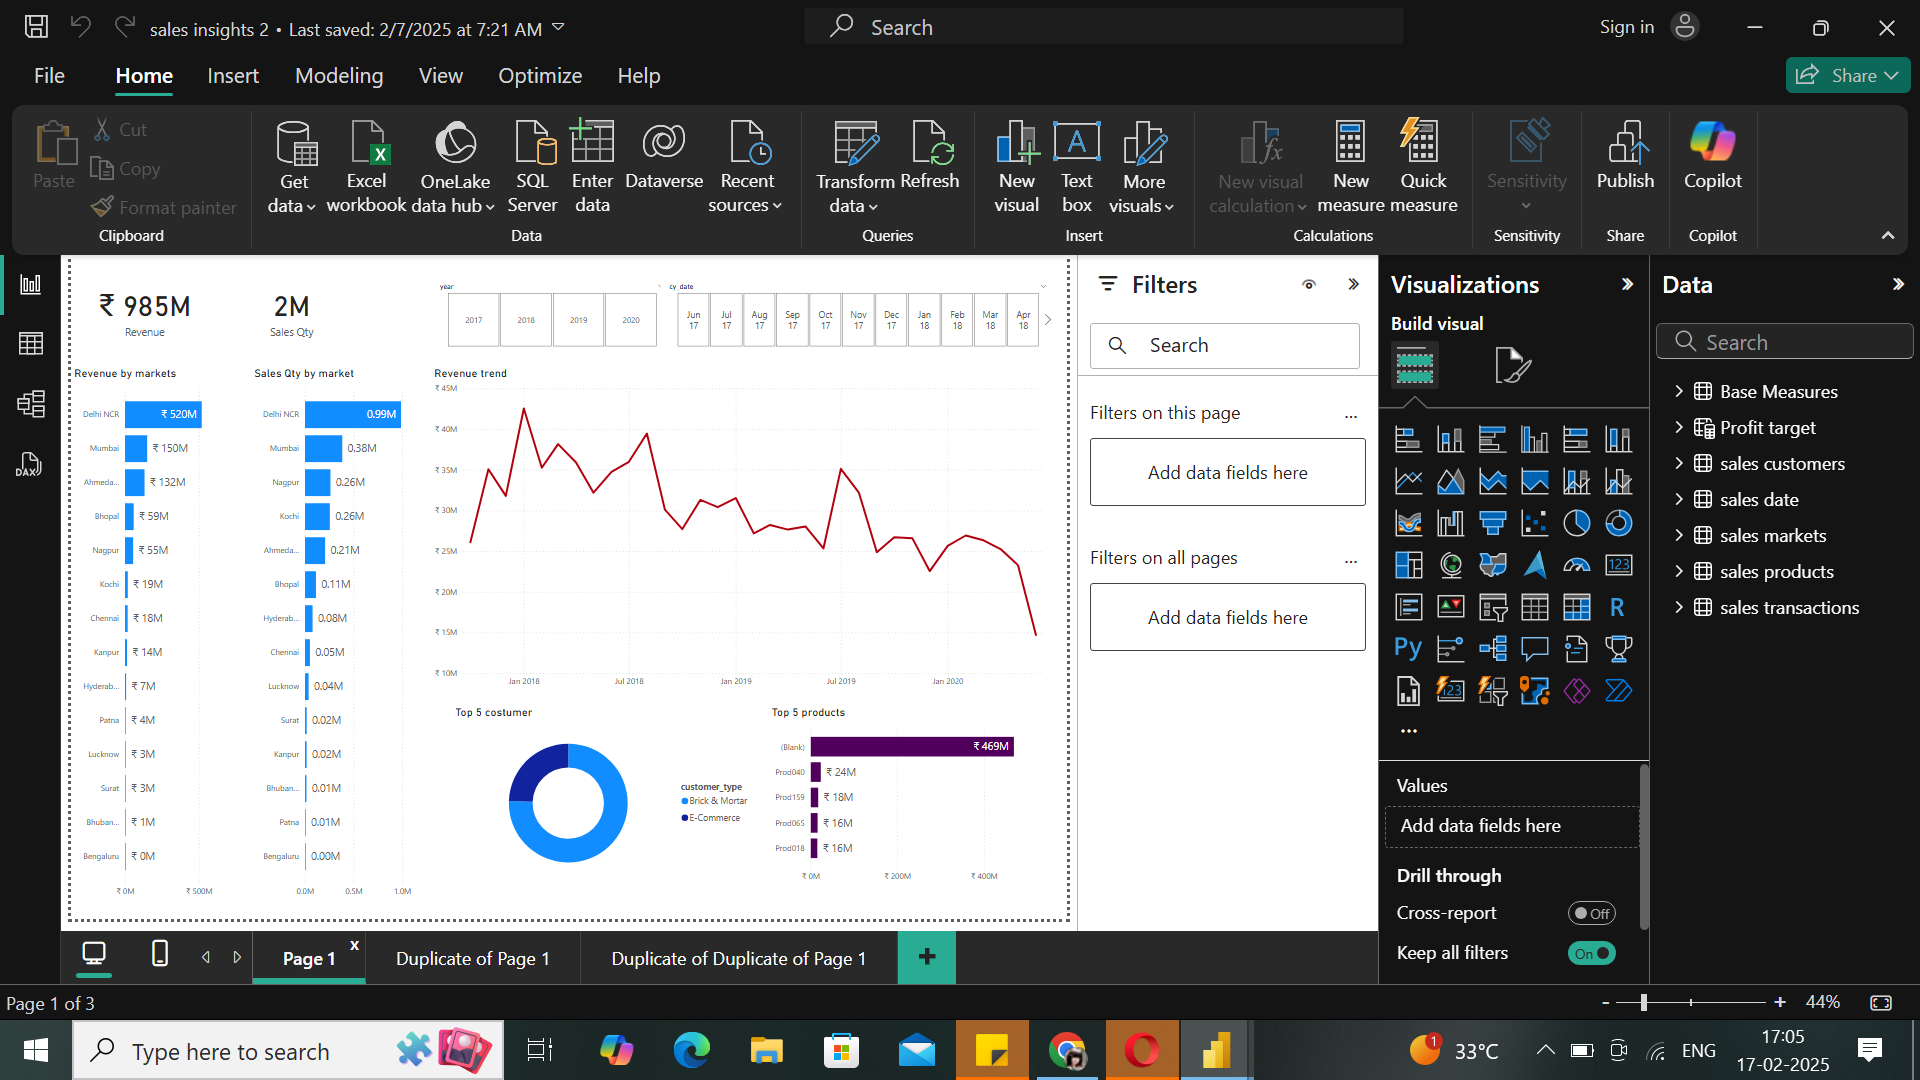

The page's visual inventory and layout, read from the dashboard file:
{"tool":"powerbi","page":{"name":"Page 1","canvas":[1500,1000],"ordinal":0},"visuals":[{"type":"card","fields":{"Values":["Base Measures.Revenue"]},"box":[0,0,221.1,166.3],"z":0},{"type":"card","fields":{"Values":["Base Measures.Sales Qty"]},"box":[221.1,0,221.1,166.3],"z":1000},{"type":"barChart","title":"Revenue by markets","fields":{"Y":["Base Measures.Revenue"],"Category":["sales markets.markets_name"]},"box":[0,167.2,271.1,808.8],"z":2000},{"type":"barChart","title":"Sales Qty by market","fields":{"Y":["Base Measures.Sales Qty"],"Category":["sales markets.markets_name"]},"box":[271.1,167.2,271.1,808.8],"z":3000},{"type":"slicer","fields":{"Values":["sales date.year"]},"box":[542.2,36.1,363.7,108.4],"z":4000},{"type":"slicer","fields":{"Values":["sales date.cy_date"]},"box":[887.8,36.1,594.1,108.4],"z":5000},{"type":"donutChart","title":"Top 5 costumer","fields":{"Category":["sales customers.customer_type"],"Y":["Base Measures.Revenue"]},"box":[573.8,677.7,458.6,275.6],"z":6000},{"type":"barChart","title":"Top 5 products","fields":{"Y":["Base Measures.Revenue"],"Category":["sales products.product_code"]},"box":[1050.5,677.7,449.6,275.6],"z":7000},{"type":"lineChart","title":"Revenue trend","fields":{"Y":["Base Measures.Revenue"],"Category":["sales date.cy_date.Variation.Date Hierarchy.Year","sales date.cy_date.Variation.Date Hierarchy.Quarter","sales date.cy_date.Variation.Date Hierarchy.Month","sales date.cy_date.Variation.Date Hierarchy.Day"]},"box":[542.2,167.2,939.8,492.5],"z":8000}]}

Visuals, with their boxes on the page's 1500x1000 design canvas (x1, y1, x2, y2). These are canvas units, not pixel positions in the 1920x1080 screenshot, which may show the page scaled, cropped or inside an application window:
card - Base Measures.Revenue: left=0, top=0, right=221, bottom=166
card - Base Measures.Sales Qty: left=221, top=0, right=442, bottom=166
"Revenue by markets" barChart: left=0, top=167, right=271, bottom=976
"Sales Qty by market" barChart: left=271, top=167, right=542, bottom=976
slicer - sales date.year: left=542, top=36, right=906, bottom=144
slicer - sales date.cy_date: left=888, top=36, right=1482, bottom=144
"Top 5 costumer" donutChart: left=574, top=678, right=1032, bottom=953
"Top 5 products" barChart: left=1050, top=678, right=1500, bottom=953
"Revenue trend" lineChart: left=542, top=167, right=1482, bottom=660
